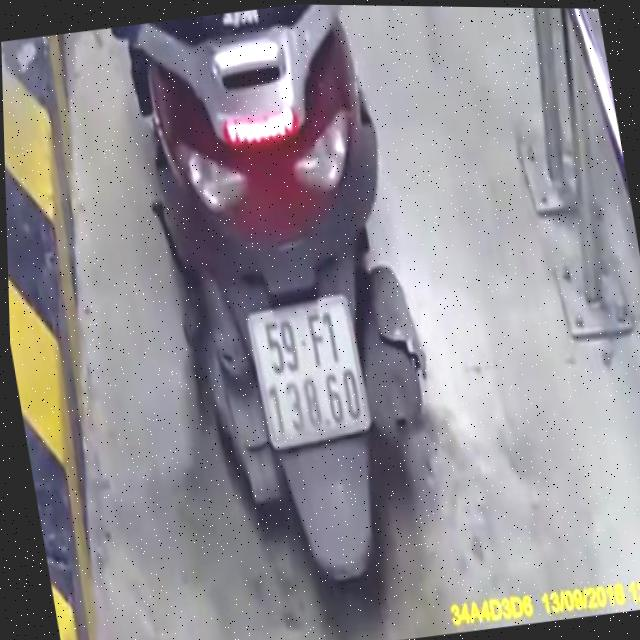motorcycle: (111, 2, 469, 618)
plate: (241, 292, 379, 455)
